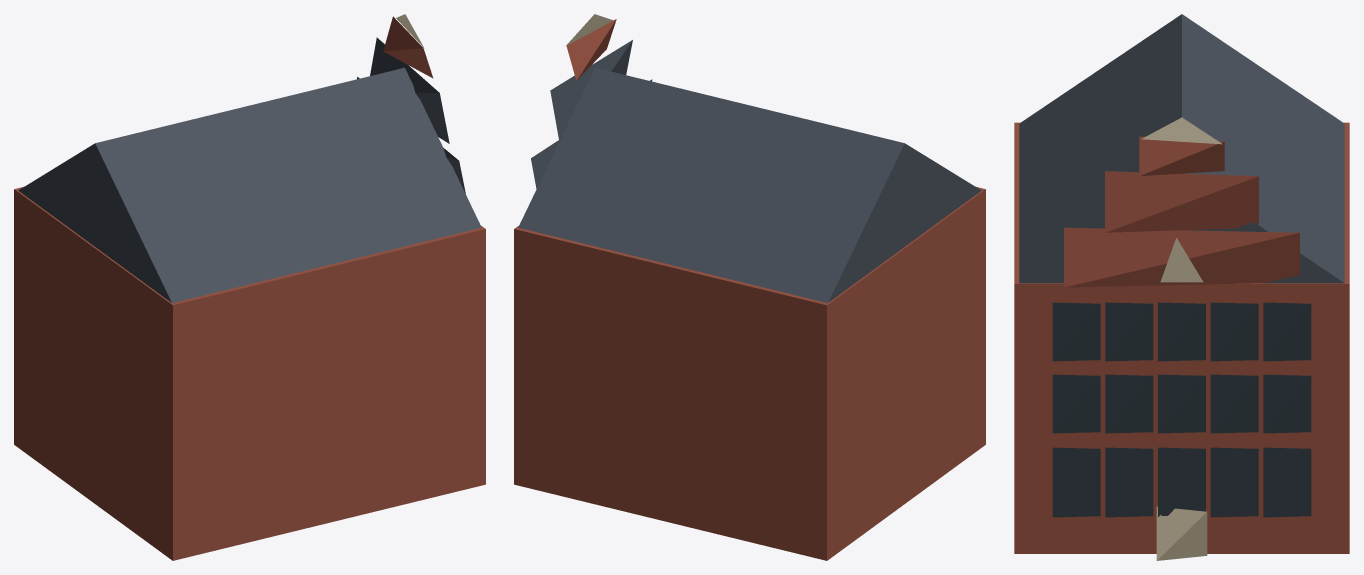
Rendered from embassy-free-mind.lod2.glb.
3 views of the same model, side by side, from view 1: azimuth 30°, elevation 25°; view 2: azimuth 150°, elevation 25°; view 3: azimuth 270°, elevation 25° (orthographic). The views are drawn at different scales.
Parts seen in each view (by area): view 1: lod2; view 2: lod2; view 3: lod2.
Part boxes in pixels (x1,y1,x2,y2): lod2: (14, 14, 485, 560); lod2: (514, 14, 985, 560); lod2: (1014, 14, 1349, 560).
Size of the model in its own units: 19.77 by 23.9 by 16.66.
